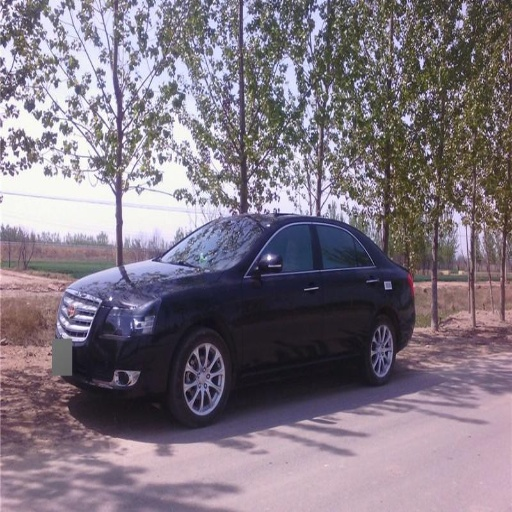front_glass: (158, 218, 258, 266)
